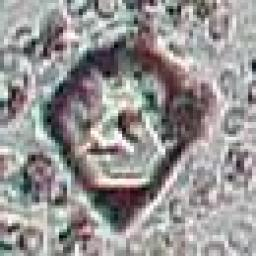crystals: (39, 33, 211, 241)
